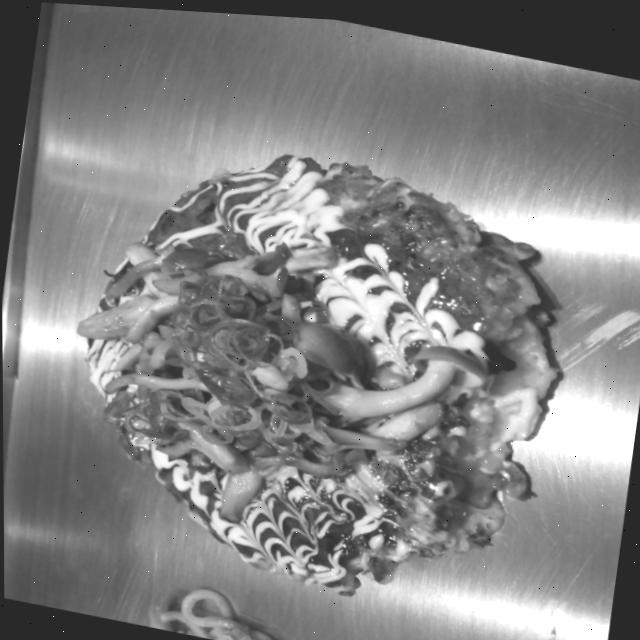蛋糕甜品: (41, 103, 563, 599)
